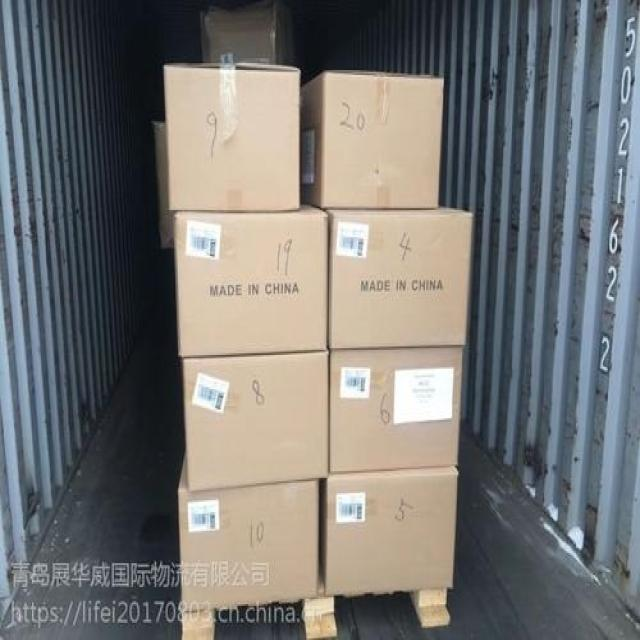box: (172, 200, 327, 356), (178, 452, 319, 608), (183, 351, 328, 492), (329, 205, 471, 348), (299, 71, 445, 210), (165, 64, 301, 210), (329, 347, 463, 474), (325, 467, 458, 594)
